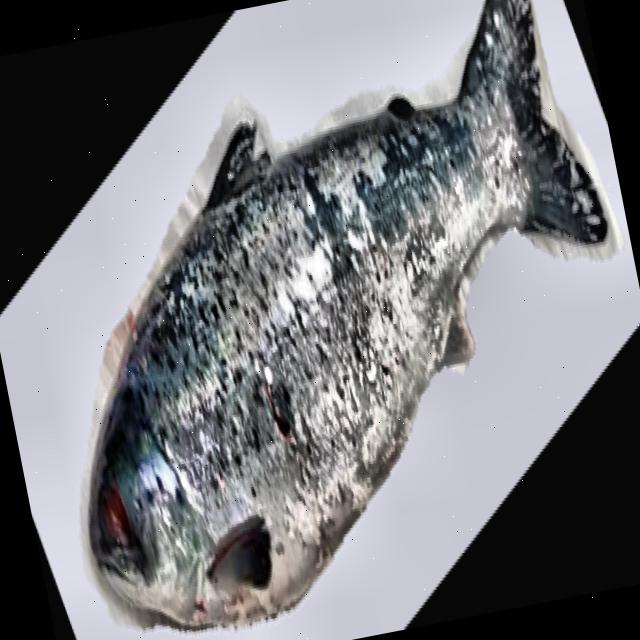mild_red: (133, 92, 525, 609)
